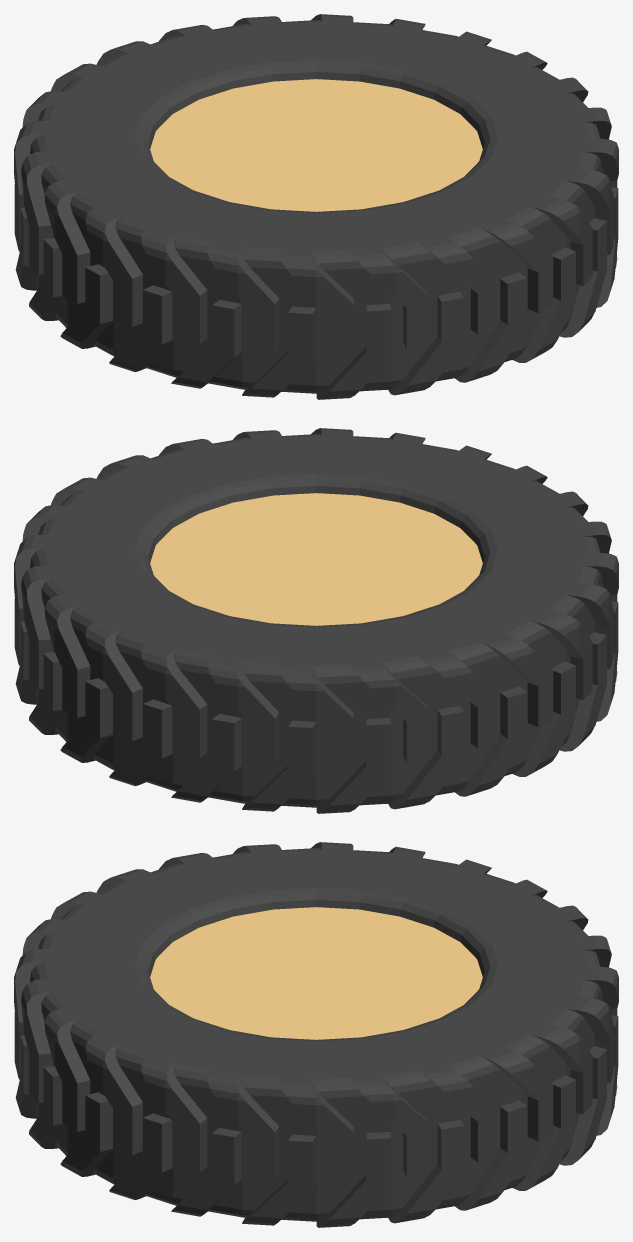
File: mazebot_rightWheel_visible__161__.dae
3 renders of one model, top to bottom at view 1: azimuth 30°, elevation 25°; view 2: azimuth 150°, elevation 25°; view 3: azimuth 270°, elevation 25°, orthographic.
Visible parts, largest first — view 1: Node_0x7f4a58bb5e60 (×2); view 2: Node_0x7f4a58bb5e60 (×2); view 3: Node_0x7f4a58bb5e60 (×2).
Part boxes in pixels (x1=…): Node_0x7f4a58bb5e60 (×2): x1=14, y1=14, x2=618, y2=399; Node_0x7f4a58bb5e60 (×2): x1=14, y1=428, x2=618, y2=813; Node_0x7f4a58bb5e60 (×2): x1=14, y1=842, x2=618, y2=1227.
Size of the model in its own units: 0.0975 by 0.025 by 0.0975.
